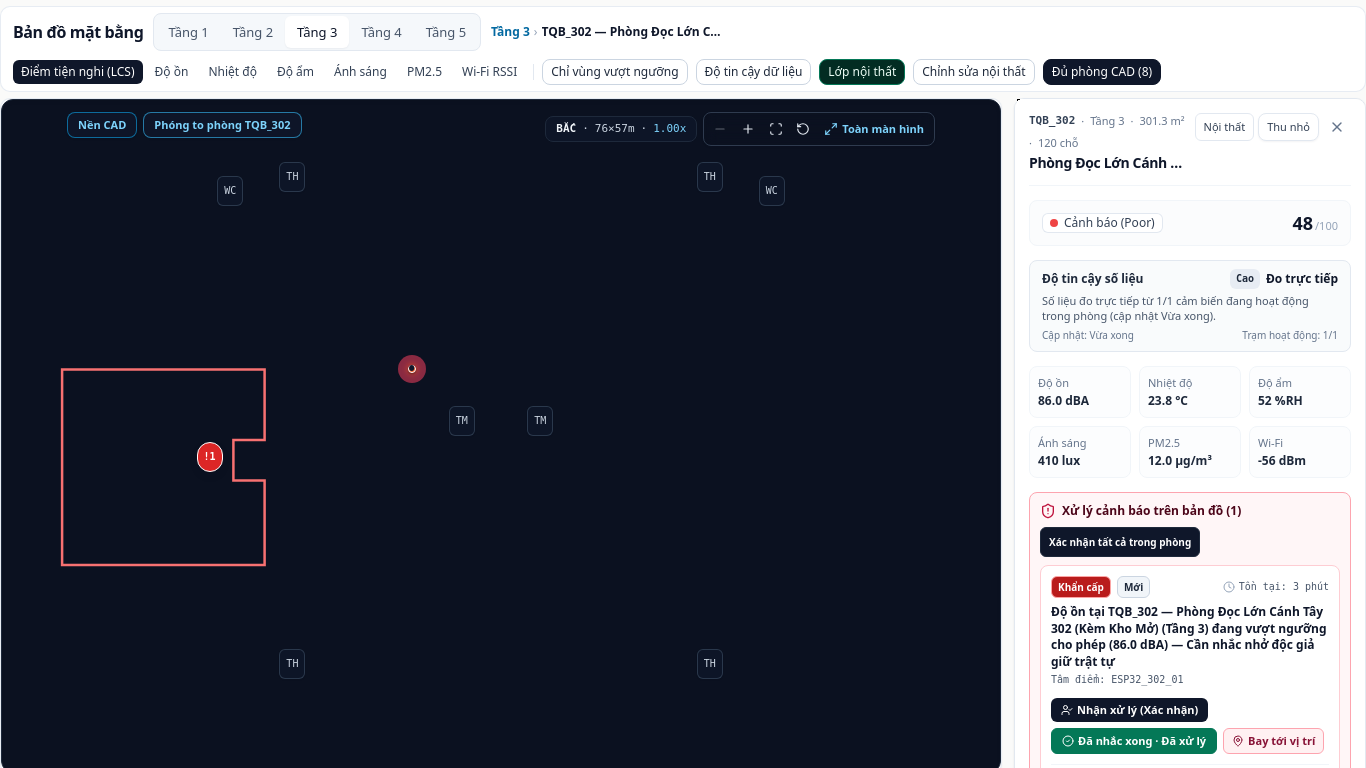
Test: Phase 6 — Xử lý Cảnh báo Trực tiếp Trên Bản Đồ (TC-G6-06..11) › TC-G6-07: Giao việc và lưu Ghi chú xử lý trên Drawer gọi PATCH /alerts/alert-1/workflow và cập nhật UI ngay
This screenshot has width=1366, height=768.
Click the button with test id "room-alert-badge-ROOM_302" at (210, 458), box left=188, top=436, right=232, bottom=480
(page scrolled)
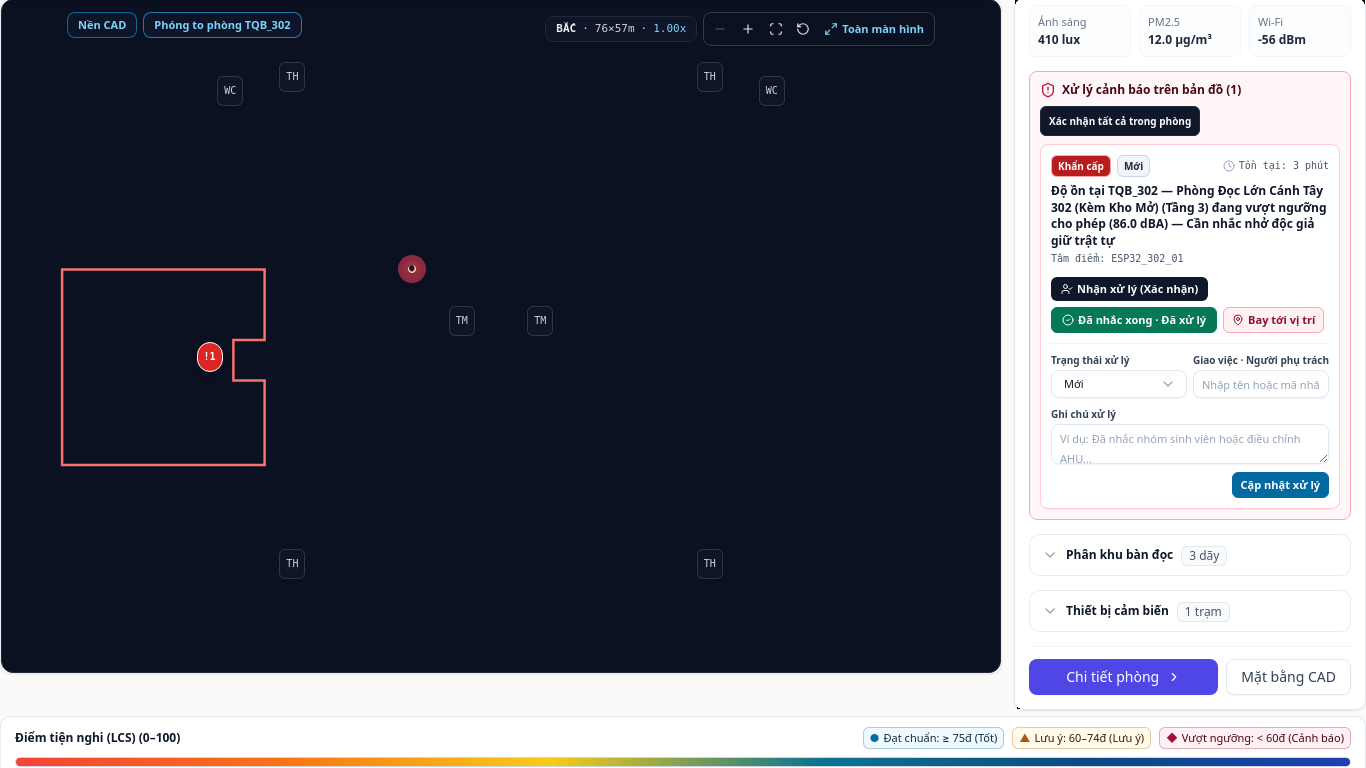
Type "nguyenvana" into the field with test id "alert-assignee-input-alert-1" at (1261, 384), box left=1193, top=370, right=1329, bottom=398
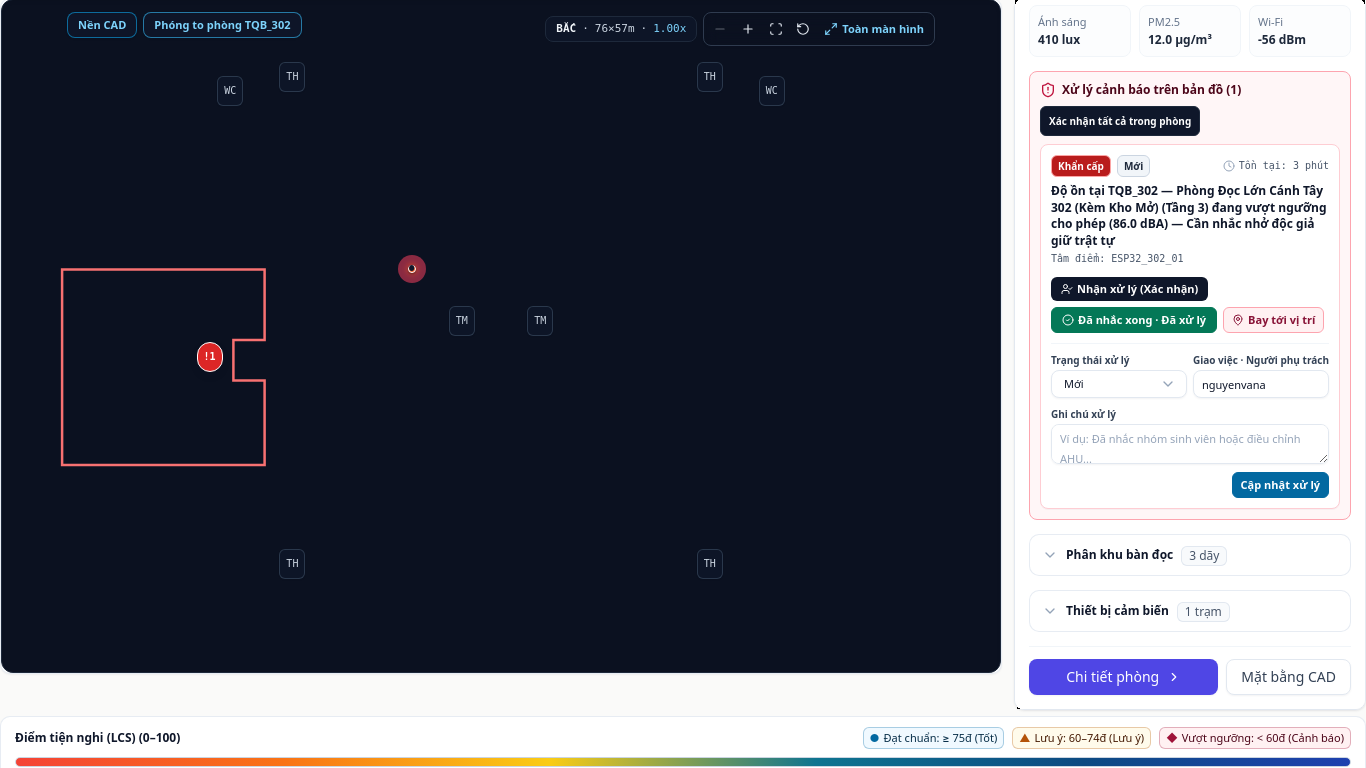
Type "Đã nhắc nhóm sinh viên bàn 3" into the text box with test id "alert-note-input-alert-1" at (1190, 444), box left=1051, top=424, right=1329, bottom=464
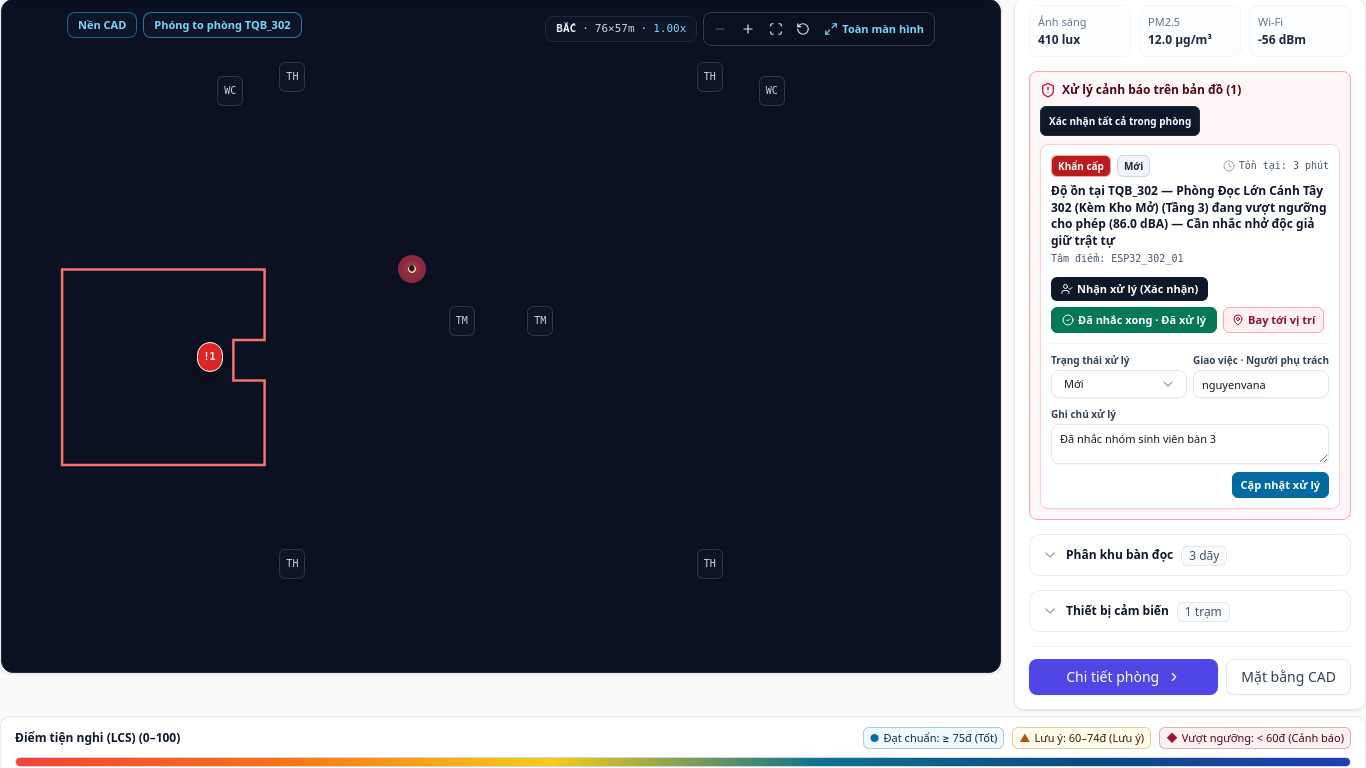
Select "Đang xử lý" in the dropdown with test id "alert-workflow-select-alert-1" at (1119, 384), box left=1051, top=370, right=1187, bottom=398
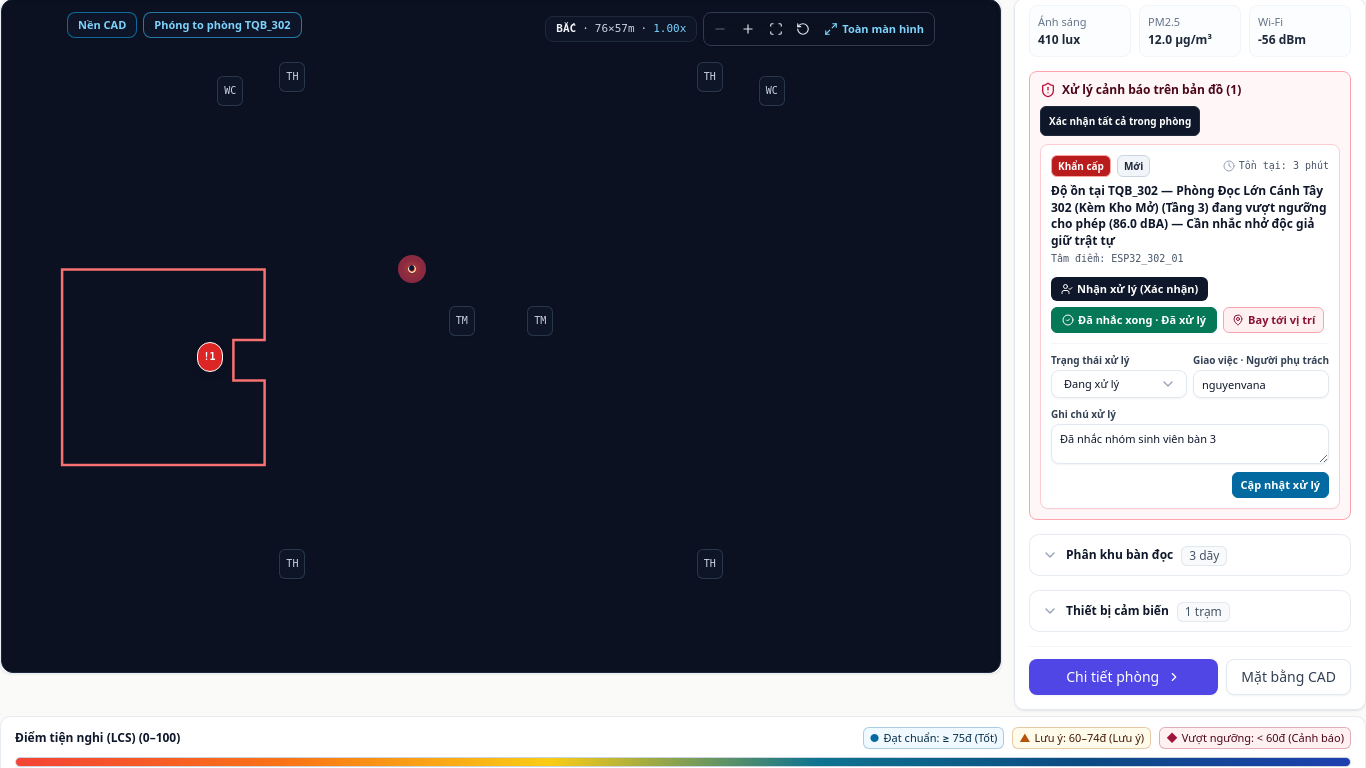
Click the button with test id "alert-save-workflow-btn-alert-1" at (1280, 485), box left=1232, top=472, right=1329, bottom=498
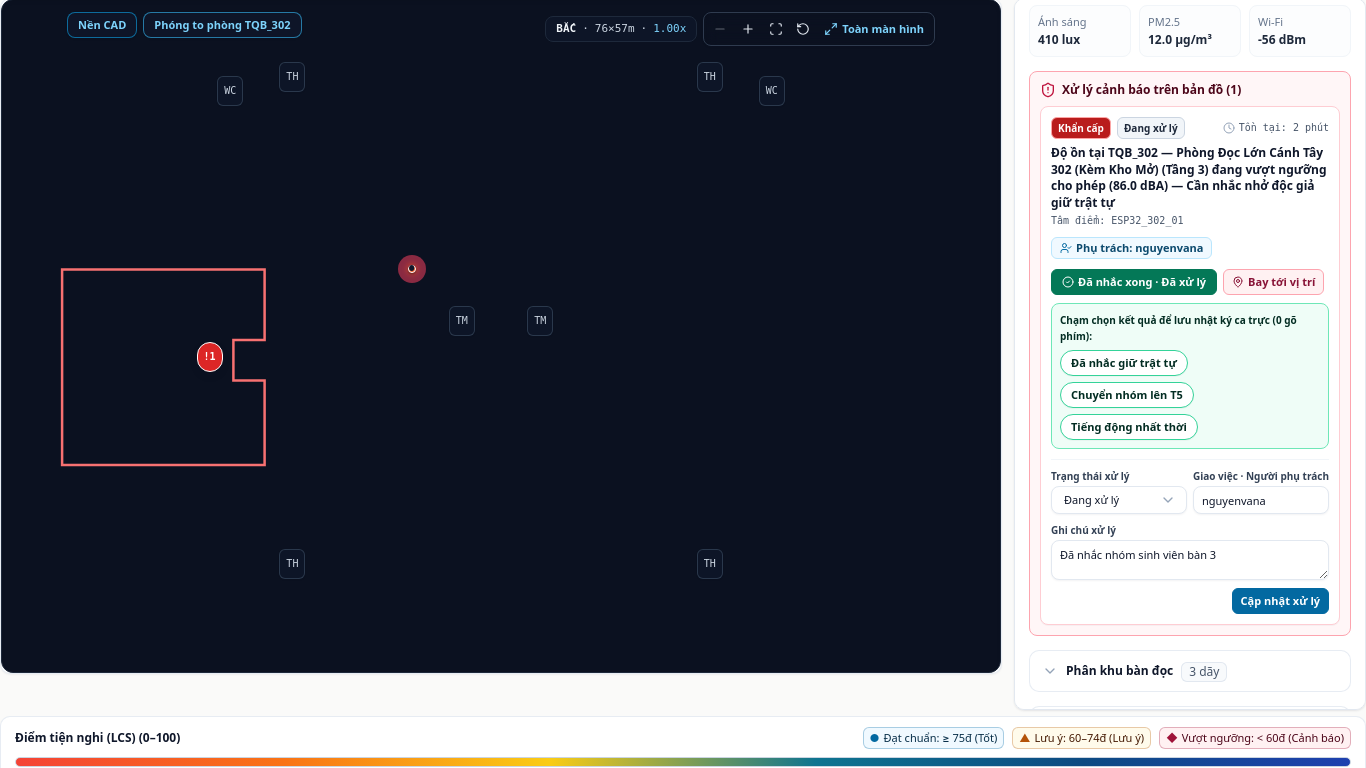
Expected: the text with test id "alert-status-pill-alert-1" reads "Đang xử lý", left=1124, top=121, right=1178, bottom=135
Expected: the element with test id "alert-assignee-badge-alert-1" reads "Phụ trách: nguyenvana", left=1051, top=237, right=1212, bottom=259
